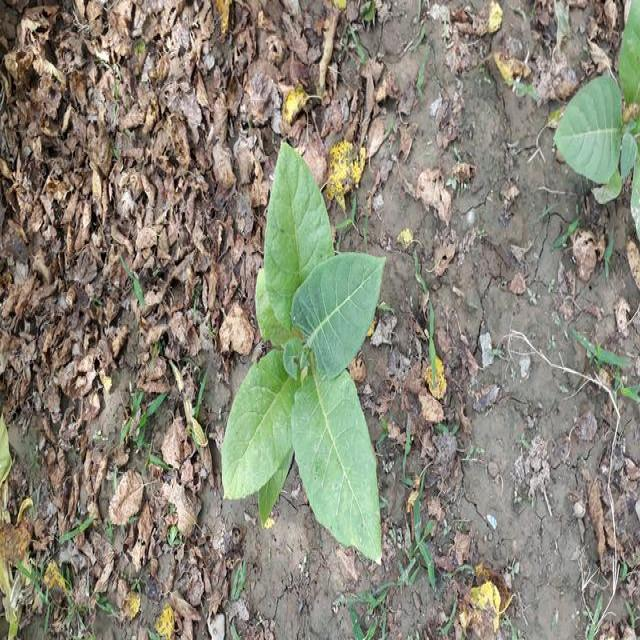crop: (230, 140, 400, 568), (563, 0, 640, 237)
